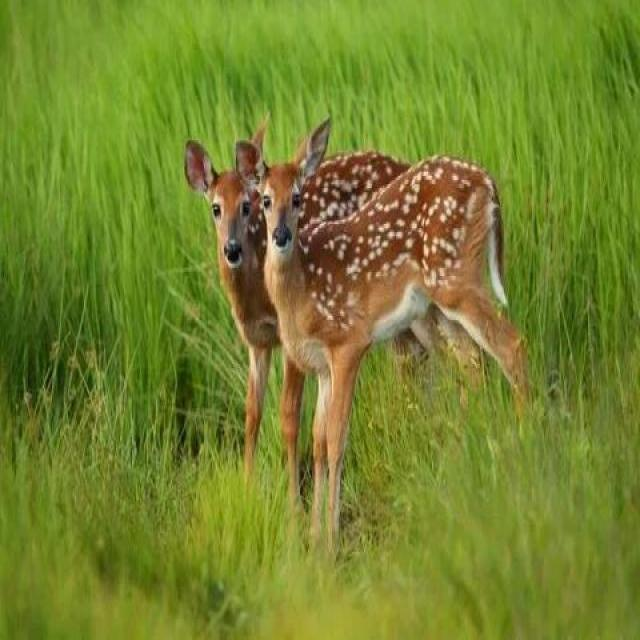deer: (255, 132, 564, 515)
